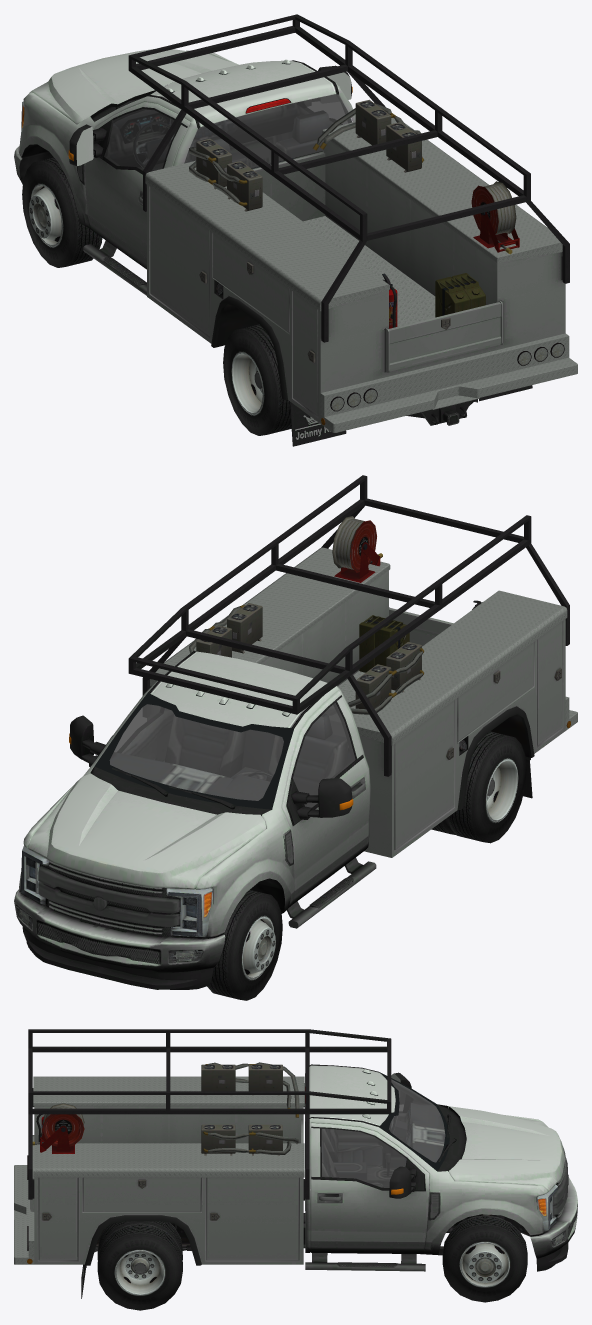
Rendered from ford-f350-utility.glb.
The picture shows the model from 3 angles, top to bottom: view 1: azimuth 30°, elevation 25°; view 2: azimuth 150°, elevation 25°; view 3: azimuth 270°, elevation 25°; orthographic projection. The views are drawn at different scales.
Parts seen in each view (by area): view 1: Object_6, Object_8, Object_3, Object_4, Object_10, Object_9; view 2: Object_6, Object_3, Object_4, Object_8, Object_9, Object_10, Object_5; view 3: Object_6, Object_3, Object_8, Object_4, Object_10, Object_9, Object_5.
Boxes of the visible parts, left/top/right/bottom form: Object_6: left=128, top=14, right=569, bottom=446; Object_8: left=145, top=118, right=577, bottom=432; Object_3: left=14, top=49, right=355, bottom=269; Object_4: left=19, top=59, right=477, bottom=402; Object_10: left=22, top=157, right=291, bottom=435; Object_9: left=104, top=94, right=351, bottom=171; Object_6: left=128, top=475, right=570, bottom=857; Object_3: left=14, top=651, right=370, bottom=972; Object_4: left=21, top=651, right=376, bottom=989; Object_8: left=150, top=547, right=577, bottom=745; Object_9: left=35, top=697, right=355, bottom=893; Object_10: left=22, top=731, right=526, bottom=1000; Object_5: left=15, top=845, right=213, bottom=972; Object_6: left=27, top=1029, right=391, bottom=1298; Object_3: left=304, top=1064, right=577, bottom=1258; Object_8: left=14, top=1076, right=304, bottom=1264; Object_4: left=94, top=1064, right=575, bottom=1271; Object_10: left=97, top=1215, right=527, bottom=1310; Object_9: left=321, top=1079, right=554, bottom=1218; Object_5: left=537, top=1184, right=577, bottom=1271.
Bounding box in the file's own units: 10.44 × 9.26 × 23.4.
Materials: 8 (7 with a texture image).
